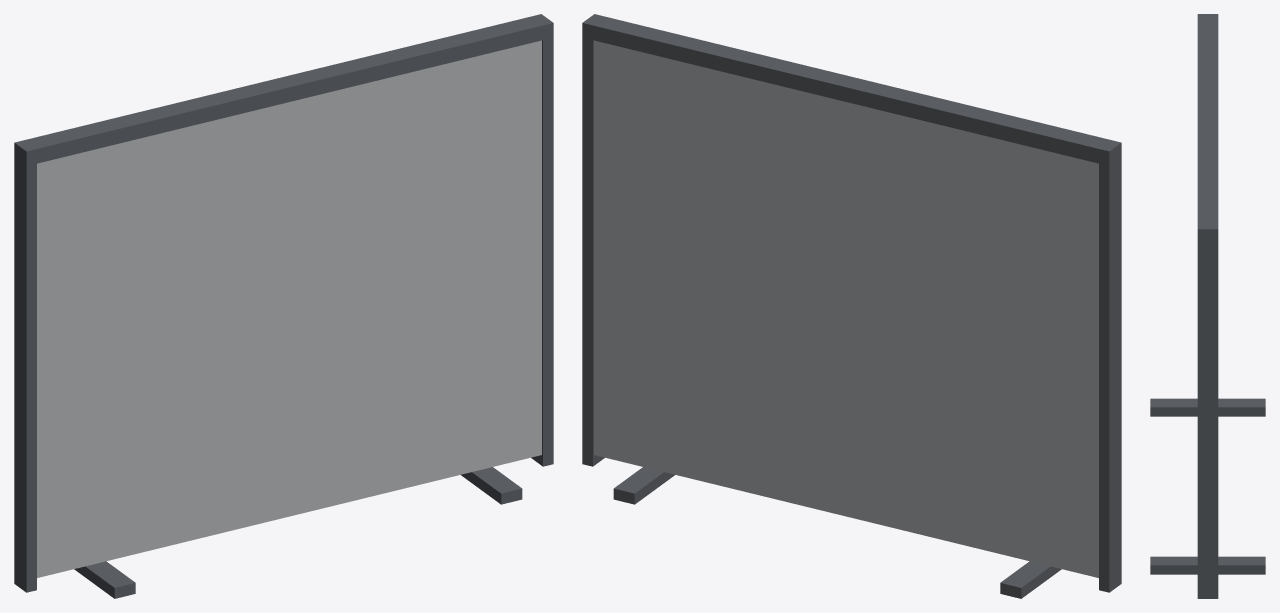
Rendered from GO_Cubicle_Panel_Low_01.glb.
3 renders of one model, left to right at view 1: azimuth 30°, elevation 25°; view 2: azimuth 150°, elevation 25°; view 3: azimuth 270°, elevation 25°, orthographic. The views are drawn at different scales.
Visible parts, largest first — view 1: GO_Cubicle_Panel_Low_01; view 2: GO_Cubicle_Panel_Low_01; view 3: GO_Cubicle_Panel_Low_01.
Part boxes in pixels (x1=…): GO_Cubicle_Panel_Low_01: x1=14, y1=14, x2=553, y2=598; GO_Cubicle_Panel_Low_01: x1=582, y1=14, x2=1121, y2=598; GO_Cubicle_Panel_Low_01: x1=1150, y1=14, x2=1265, y2=598.
Size of the model in its own units: 1.5 by 1.2 by 0.34.
Materials: 1 (1 with a texture image).
